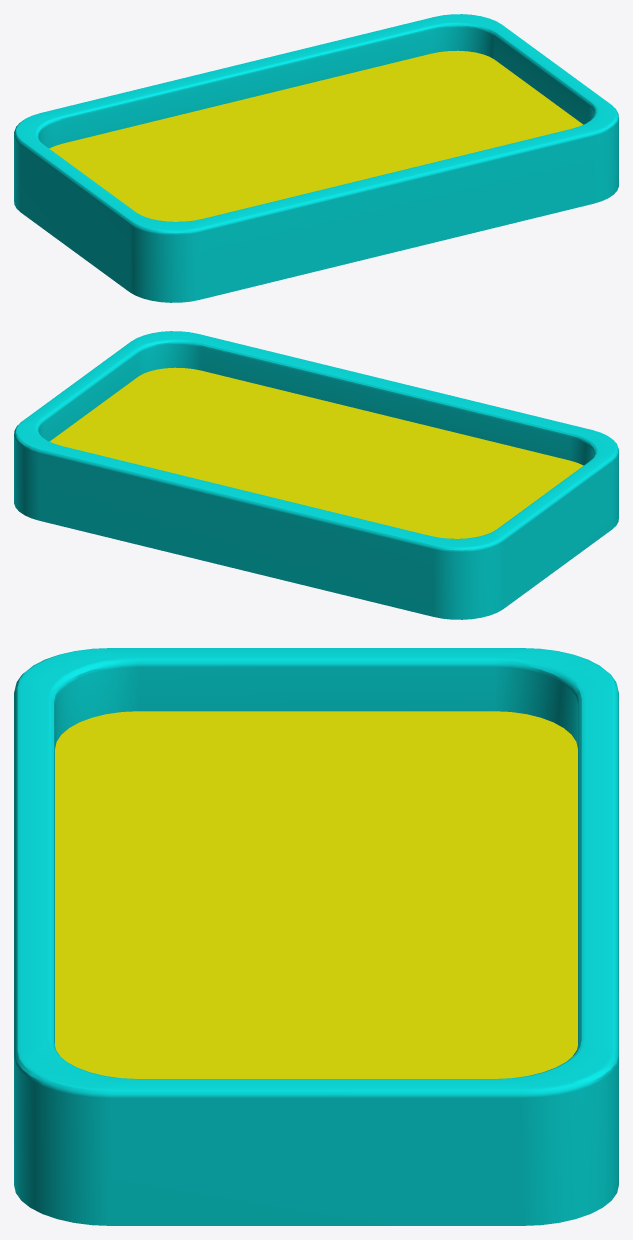
File: board2.fbx
3 views of the same model, one above another, from view 1: azimuth 30°, elevation 25°; view 2: azimuth 150°, elevation 25°; view 3: azimuth 270°, elevation 25° (orthographic). The views are drawn at different scales.
Parts seen in each view (by area): view 1: pCube2; view 2: pCube2; view 3: pCube2.
Boxes of the visible parts, <box> form: pCube2: <box>14,14,618,302</box>; pCube2: <box>14,331,618,619</box>; pCube2: <box>14,648,618,1225</box>.
Size of the model in its own units: 13.11 by 1.85 by 7.52.
